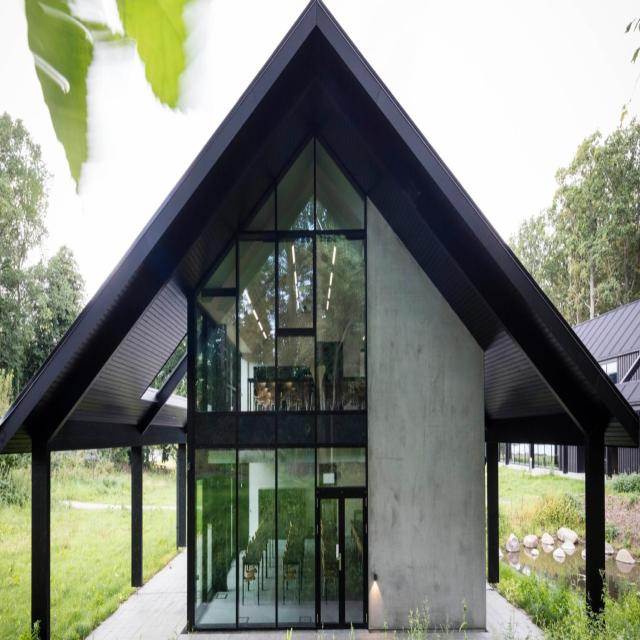door: (314, 484, 369, 630)
plant: (507, 101, 640, 326), (0, 112, 83, 408)
wall: (0, 0, 640, 639)
windows: (193, 133, 368, 413), (193, 446, 369, 635)
